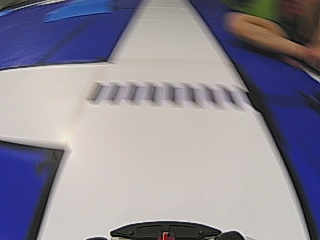CrossWalk: (88, 81, 238, 108)
